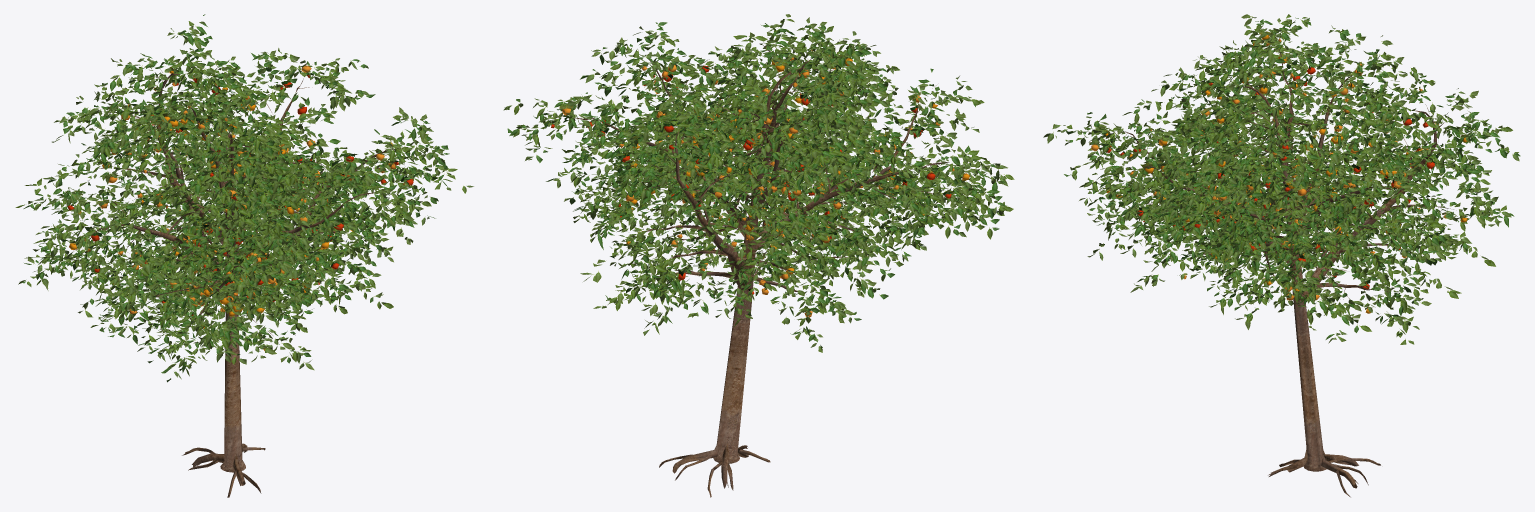
The model's file is mandarino_near_mid.glb.
The picture shows the model from 3 angles, left to right: view 1: azimuth 30°, elevation 25°; view 2: azimuth 150°, elevation 25°; view 3: azimuth 270°, elevation 25°; orthographic projection. The views are drawn at different scales.
Visible parts, largest first — view 1: Mandarin_tree; view 2: Mandarin_tree; view 3: Mandarin_tree.
Boxes of the visible parts, bbox=[...] form: Mandarin_tree: bbox=[15, 14, 473, 497]; Mandarin_tree: bbox=[503, 14, 1014, 497]; Mandarin_tree: bbox=[1043, 14, 1520, 497].
Bounding box in the file's own units: 5.95 × 5.8 × 5.94.
10 materials, 10 textured.
